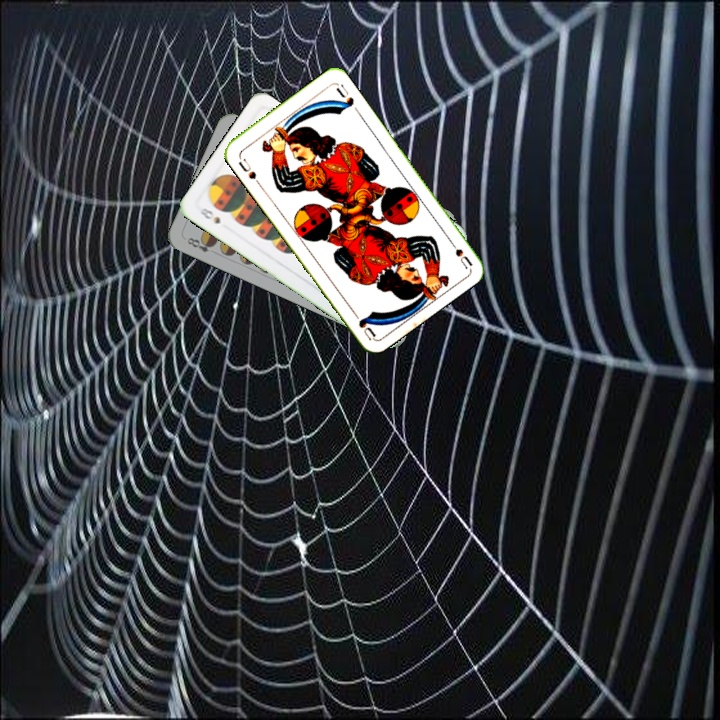E8: (183, 233, 219, 257)
S8: (196, 204, 223, 227)
SU: (443, 233, 474, 270), (234, 152, 263, 188)
